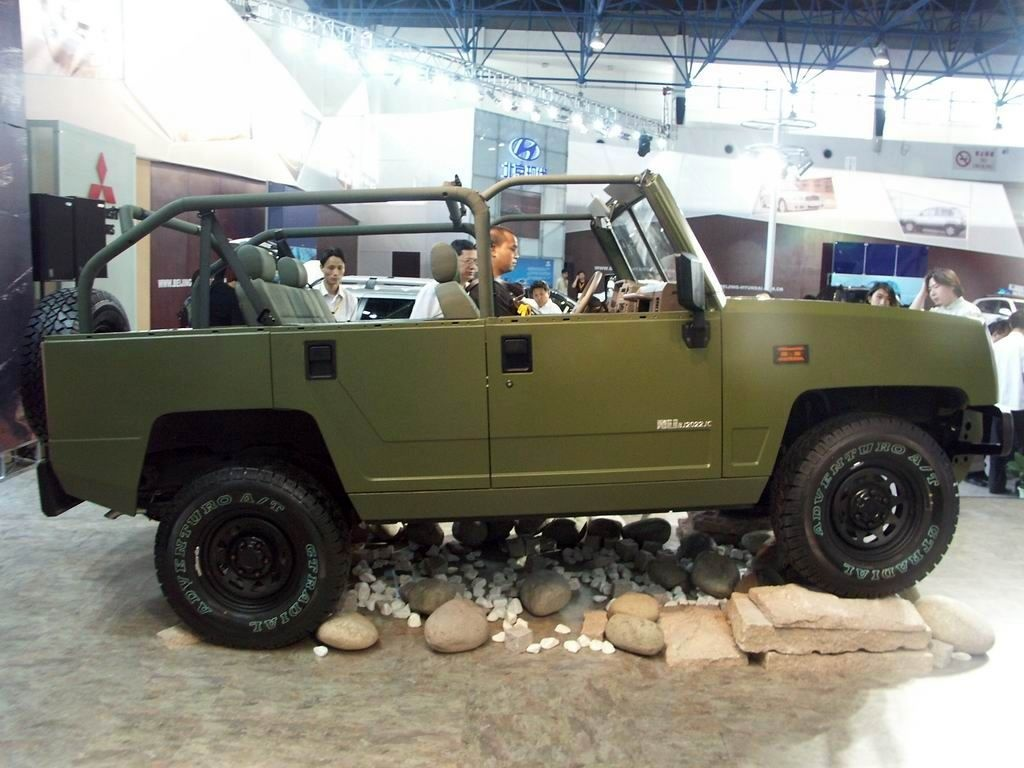jeep: (36, 174, 1012, 624)
